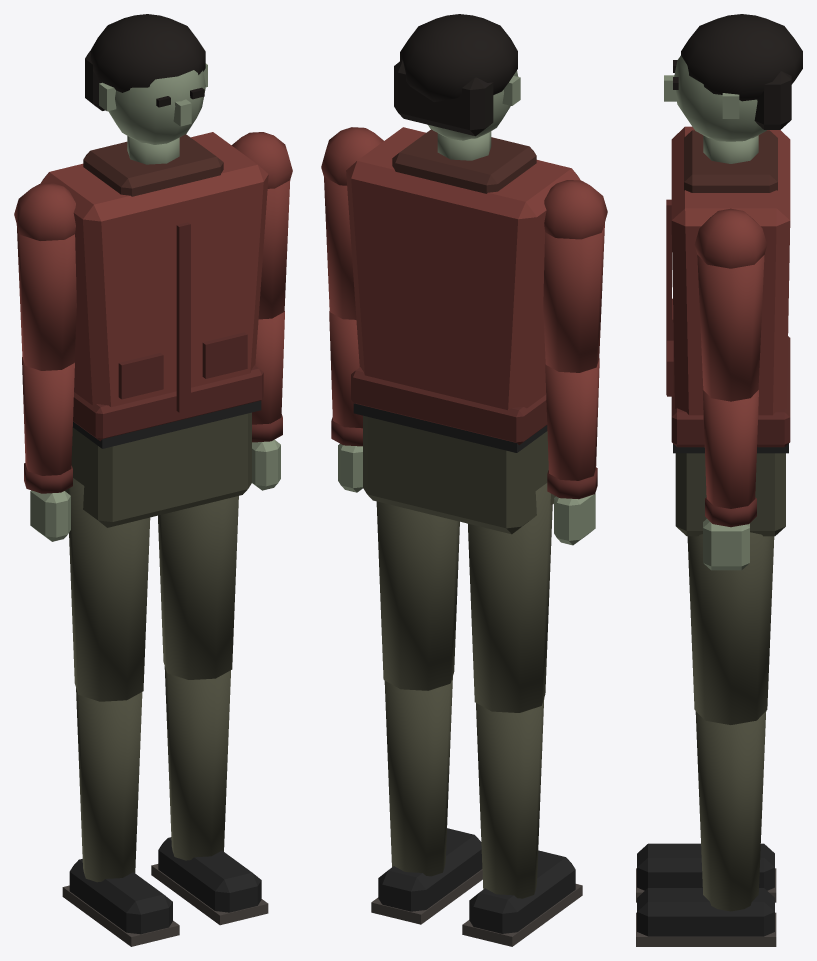
Rendered from zombie_c.glb.
The picture shows the model from 3 angles, left to right: view 1: azimuth 30°, elevation 25°; view 2: azimuth 150°, elevation 25°; view 3: azimuth 270°, elevation 25°; orthographic projection. The views are drawn at different scales.
Parts seen in each view (by area): view 1: Torso, ShinR, ShinL, Hips, LegR, Head, LegL, ArmR, ForearmR, ArmL, ForearmL; view 2: Torso, ShinR, Hips, ShinL, LegR, Head, LegL, ArmR, ForearmR, ArmL, ForearmL; view 3: Torso, ShinL, Head, LegL, ArmL, ForearmL, Hips, ShinR.
Boxes of the visible parts, x1,y1,x2,y2 form: Torso: (40,132,268,441); ShinR: (62,688,179,946); ShinL: (151,666,268,925); Hips: (65,400,261,527); LegR: (69,478,150,701); Head: (85,14,207,164); LegL: (158,496,238,679); ArmR: (14,183,76,370); ForearmR: (22,357,74,541); ArmL: (231,132,292,319); ForearmL: (252,311,284,490); Torso: (346,127,580,444); ShinR: (462,698,582,946); Hips: (353,403,555,534); ShinL: (371,676,482,924); LegR: (468,483,552,712); Head: (394,14,520,160); LegL: (376,501,459,690); ArmR: (543,180,607,372); ForearmR: (545,358,599,545); ArmL: (321,127,383,319); ForearmL: (329,311,362,492); Torso: (666,126,790,447); ShinL: (636,711,776,946); Head: (664,14,802,163); LegL: (687,532,774,724); ArmL: (694,208,767,401); ForearmL: (702,390,758,570); Hips: (673,443,788,536); ShinR: (636,843,776,902).
Bounding box in the file's own units: 0.582 × 1.78 × 0.3026.
